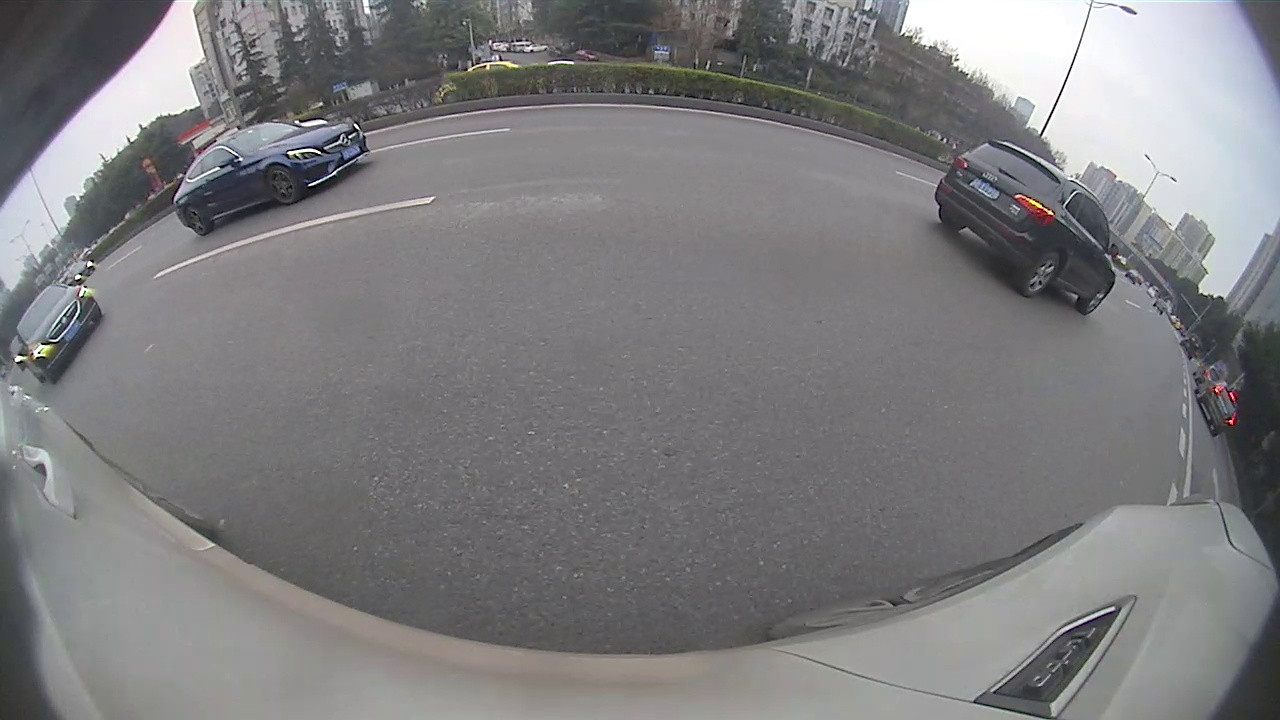car: (937, 141, 1116, 315), (173, 121, 368, 236), (13, 283, 98, 383), (1193, 378, 1238, 436)
front: (265, 163, 304, 207), (1074, 277, 1116, 316)
rear: (1014, 248, 1062, 300), (184, 203, 216, 237)
